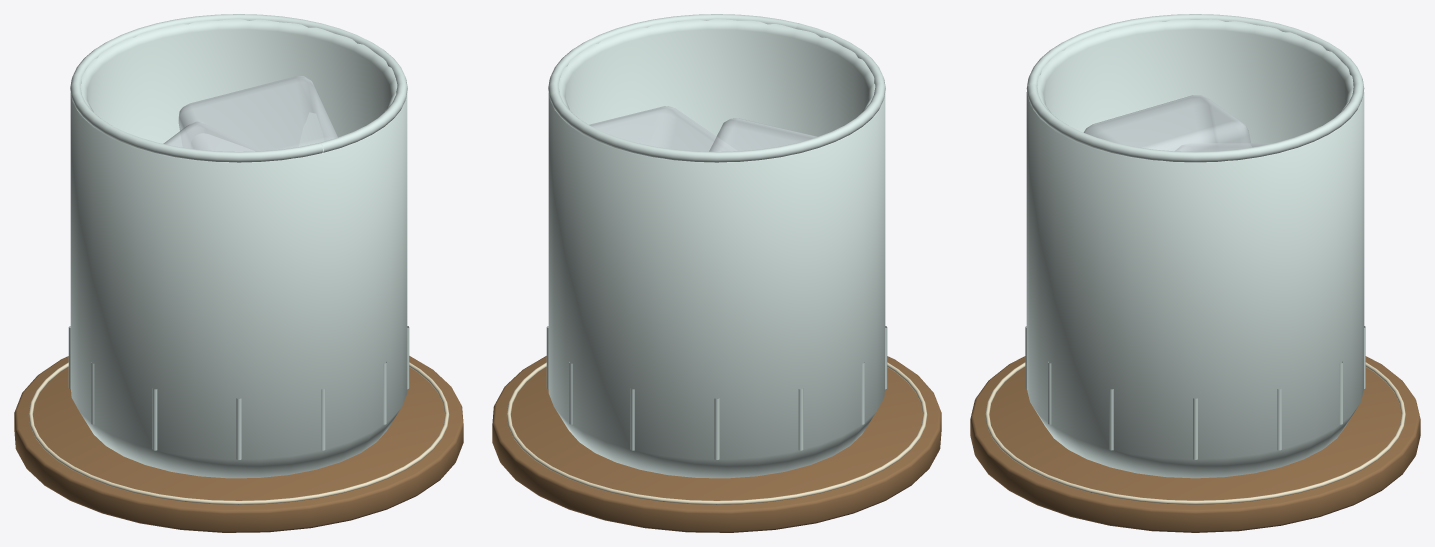
The model's file is drink-whisky.glb.
3 views of the same model, side by side, from view 1: azimuth 30°, elevation 25°; view 2: azimuth 150°, elevation 25°; view 3: azimuth 270°, elevation 25° (orthographic).
Visible parts, largest first — view 1: drink-whisky; view 2: drink-whisky; view 3: drink-whisky.
Part boxes in pixels (x1,y1,x2,y2): drink-whisky: [14, 14, 463, 532]; drink-whisky: [492, 14, 941, 532]; drink-whisky: [970, 14, 1420, 532].
Size of the model in its own units: 0.32 by 0.2788 by 0.32.
